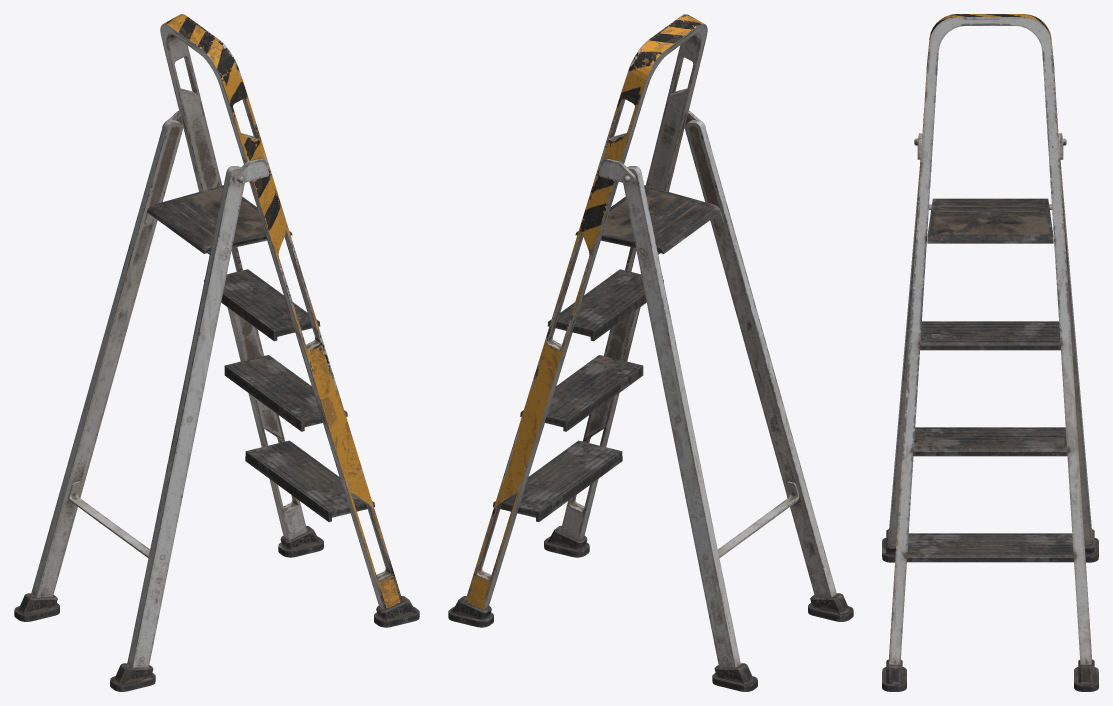
Rendered from SM_Ladder_01.glb.
3 renders of one model, left to right at view 1: azimuth 30°, elevation 25°; view 2: azimuth 150°, elevation 25°; view 3: azimuth 270°, elevation 25°, orthographic.
Visible parts, largest first — view 1: SM_Ladder_01; view 2: SM_Ladder_01; view 3: SM_Ladder_01.
Boxes of the visible parts, left/top/right/bottom form: SM_Ladder_01: left=14, top=14, right=419, bottom=691; SM_Ladder_01: left=448, top=14, right=853, bottom=691; SM_Ladder_01: left=882, top=14, right=1098, bottom=691.
Size of the model in its own units: 1.01 by 1.88 by 0.6207.
1 material, 1 textured.
